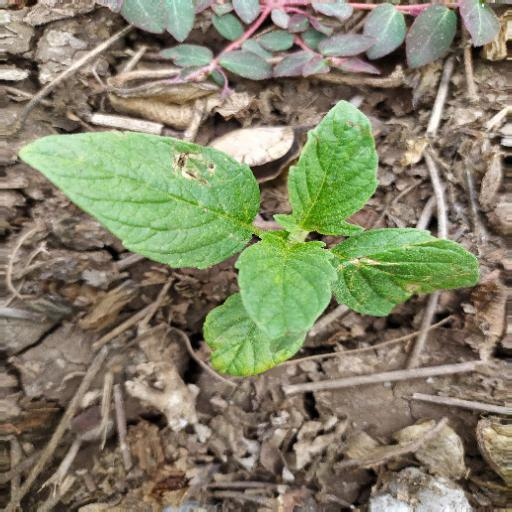crop: (16, 100, 485, 376)
